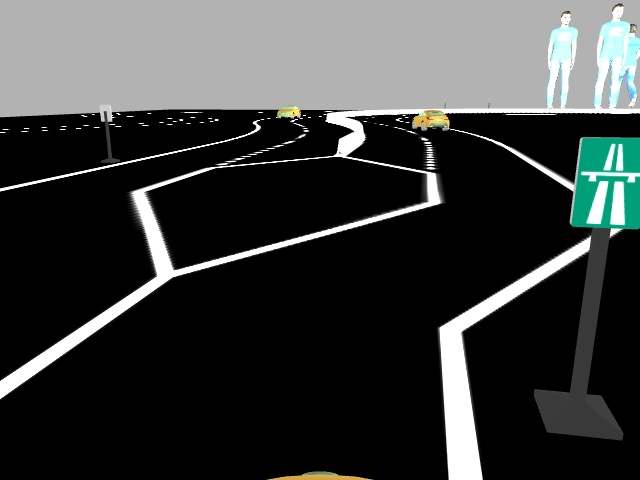HighwayEntrance: (570, 134, 639, 231)
